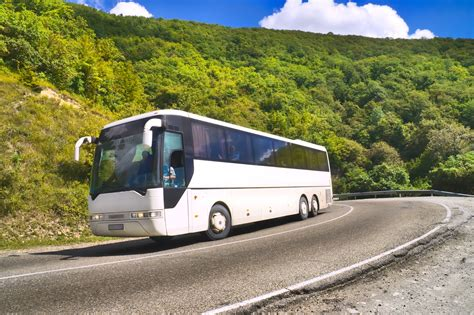bus: (89, 116, 331, 237)
